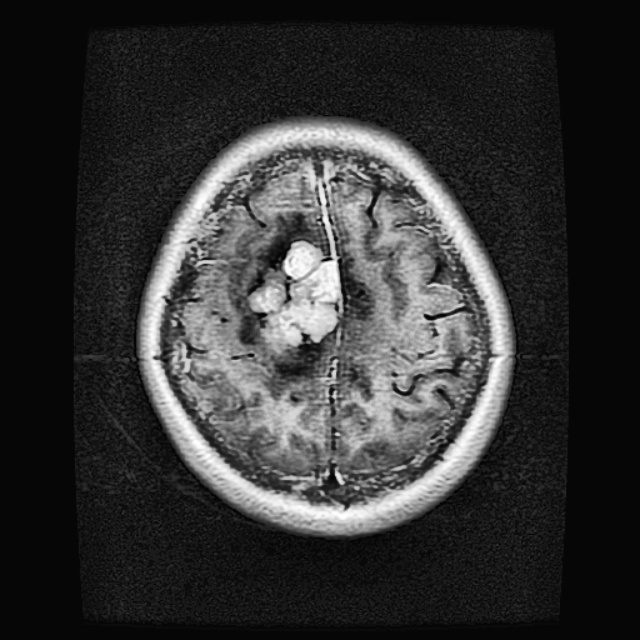Pituitary: (249, 239, 342, 347)
